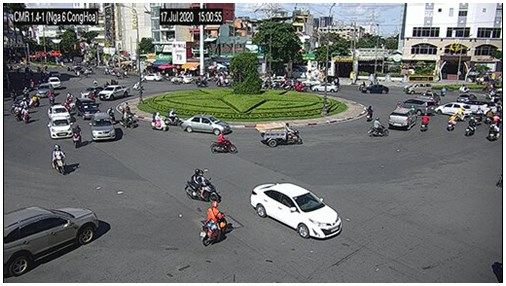xe_ba_gac: (255, 122, 303, 148)
xe_ban_tai: (99, 85, 131, 101)
xe_hoi: (3, 206, 97, 273), (250, 183, 342, 240), (90, 112, 116, 143), (388, 108, 416, 131), (399, 97, 436, 114), (47, 118, 72, 140), (75, 98, 100, 118), (438, 102, 471, 116), (403, 82, 432, 94), (311, 82, 339, 93), (47, 105, 69, 118), (361, 84, 389, 94), (37, 84, 52, 97), (143, 72, 162, 82), (48, 76, 61, 89), (458, 93, 474, 103)
xe_may: (199, 201, 228, 247), (184, 168, 221, 204), (208, 131, 237, 156), (51, 143, 67, 175), (149, 111, 168, 133), (368, 118, 389, 137), (164, 109, 181, 128), (121, 107, 135, 130), (72, 125, 83, 150), (465, 116, 477, 138), (488, 121, 500, 142), (447, 113, 456, 133), (474, 106, 484, 123), (420, 113, 428, 132), (484, 108, 494, 123), (366, 105, 374, 122), (456, 107, 465, 122), (22, 106, 29, 125), (493, 113, 502, 126), (15, 103, 21, 122), (47, 90, 54, 104), (32, 94, 39, 107), (66, 90, 72, 102)
